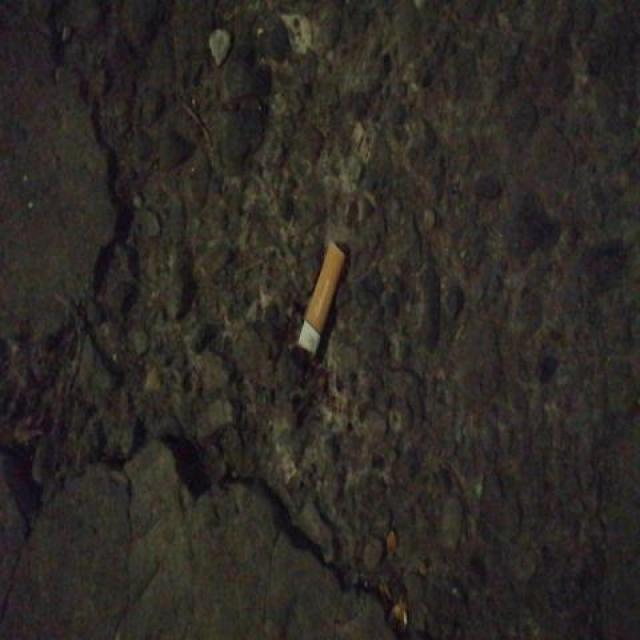non-organic waste: (295, 232, 352, 360)
